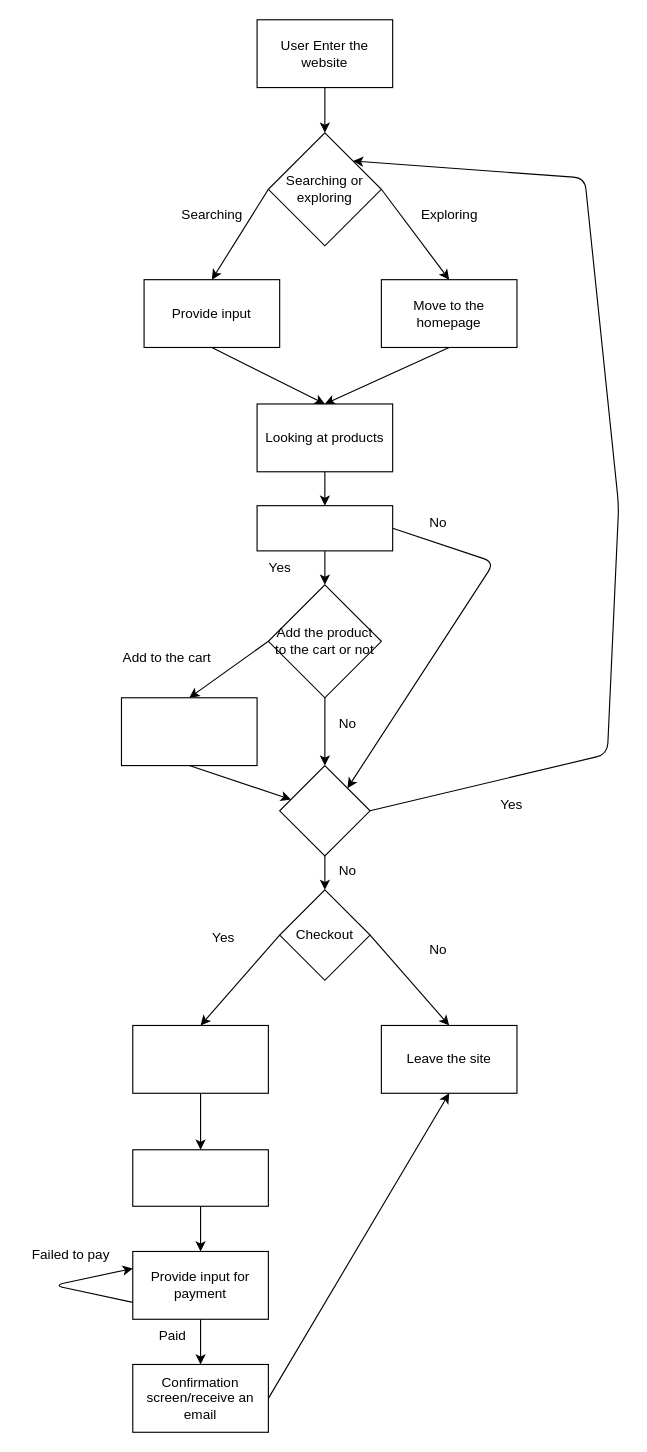
This 647x1452 diagram has some shape labels left out. The shapes that lost their labels are listed below. From the top down, each one's centre as x and y in pixels, then its label:
the point at 324,528: View specific product
the point at 188,731: Receive confirmation
the point at 324,810: Continue shopping
the point at 200,1058: Reach the review cart screen
the point at 200,1177: View Payment
